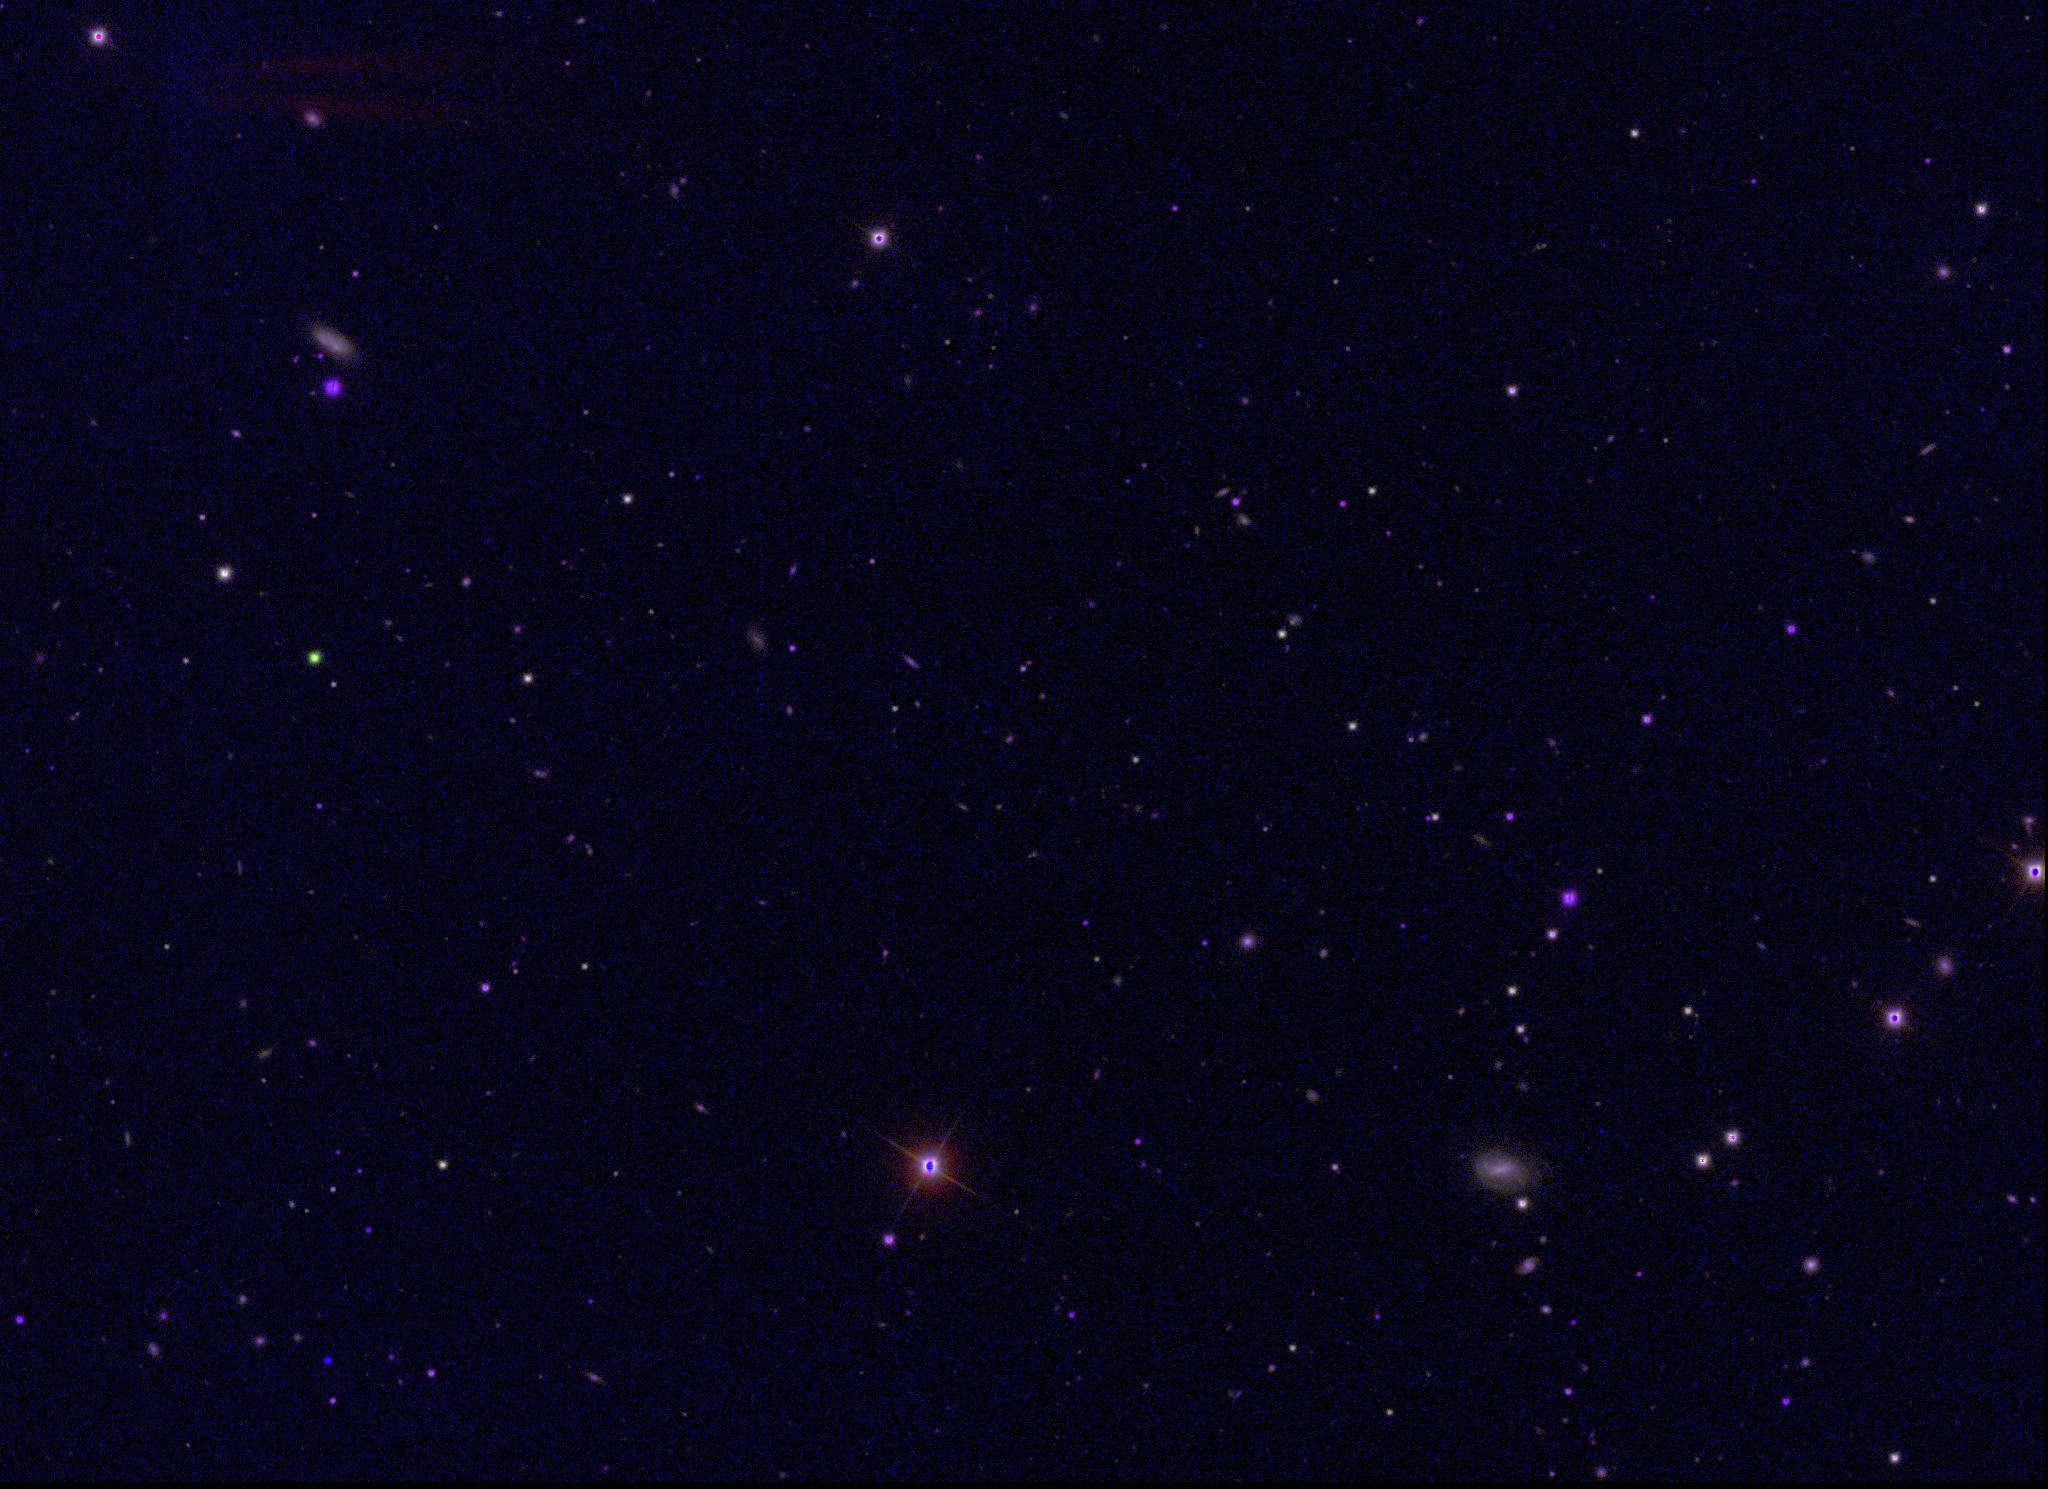L: (321, 1354, 336, 1368)
